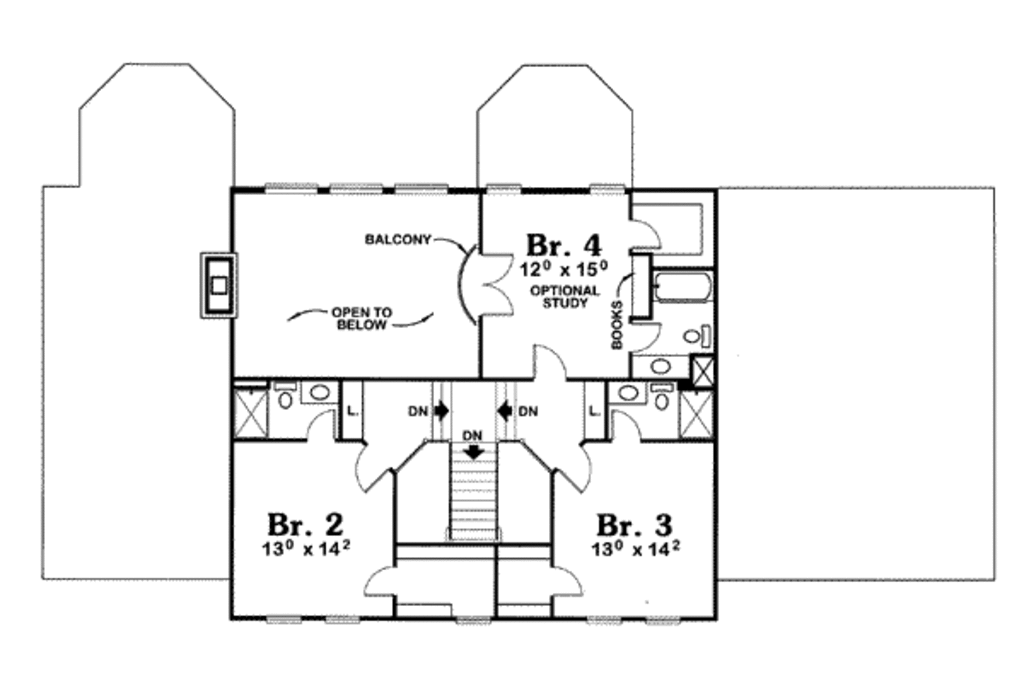door: (481, 247, 520, 322), (352, 441, 394, 495), (558, 443, 596, 494), (526, 338, 569, 381), (546, 565, 586, 602), (626, 215, 664, 252), (362, 563, 400, 599), (609, 410, 645, 445), (628, 319, 662, 353), (304, 410, 336, 440)
large_sink: (676, 323, 714, 352), (649, 379, 676, 412), (271, 380, 298, 411)
small_sink: (631, 349, 692, 380), (299, 378, 342, 409), (608, 381, 645, 405)
stairs: (409, 379, 543, 544)
tub: (653, 268, 718, 305)
window: (262, 177, 454, 201), (587, 180, 626, 199), (585, 613, 628, 629), (486, 180, 523, 198), (641, 615, 684, 629), (263, 613, 304, 626), (323, 614, 359, 624)
